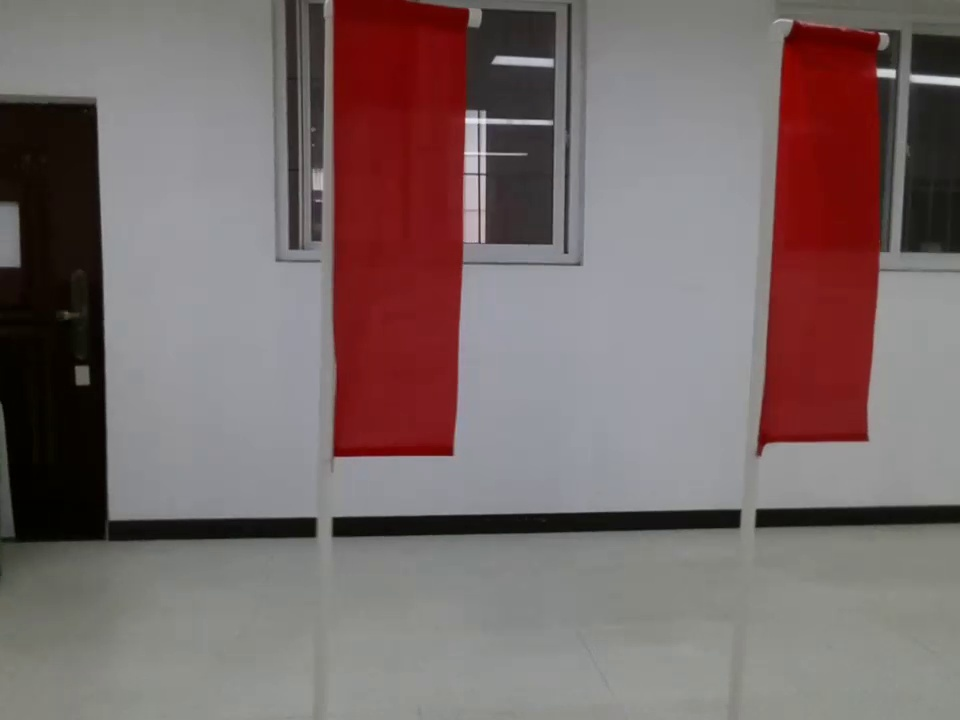qi: (291, 1, 473, 491), (741, 11, 914, 507)
